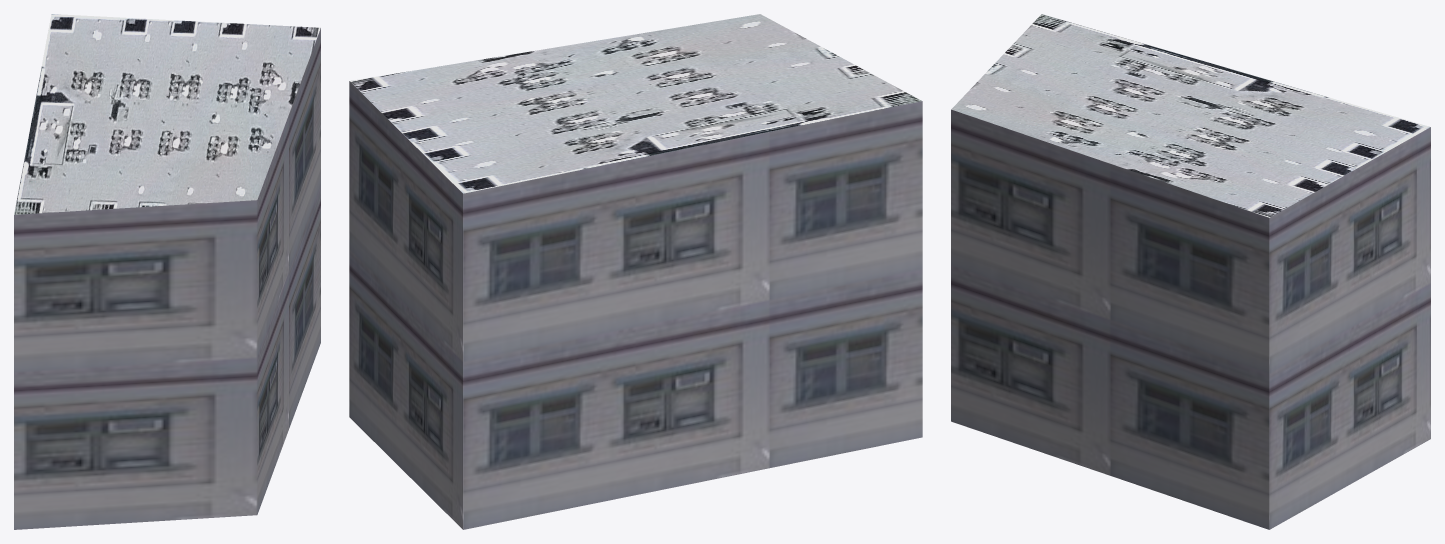
File: ResTex__3240.fbx
3 renders of one model, left to right at view 1: azimuth 30°, elevation 25°; view 2: azimuth 150°, elevation 25°; view 3: azimuth 270°, elevation 25°, orthographic. The views are drawn at different scales.
Parts seen in each view (by area): view 1: CityEngineMaterial_1_m, CityEngineMaterial_8_m; view 2: CityEngineMaterial_1_m, CityEngineMaterial_8_m; view 3: CityEngineMaterial_1_m, CityEngineMaterial_8_m.
Boxes of the visible parts, bbox=[...] form: CityEngineMaterial_1_m: bbox=[14, 28, 320, 529]; CityEngineMaterial_8_m: bbox=[14, 14, 320, 214]; CityEngineMaterial_1_m: bbox=[349, 81, 922, 529]; CityEngineMaterial_8_m: bbox=[350, 14, 921, 193]; CityEngineMaterial_1_m: bbox=[951, 109, 1430, 529]; CityEngineMaterial_8_m: bbox=[951, 14, 1430, 217].
Size of the model in its own units: 8.41 by 6 by 8.36.
Materials: 2 (2 with a texture image).
